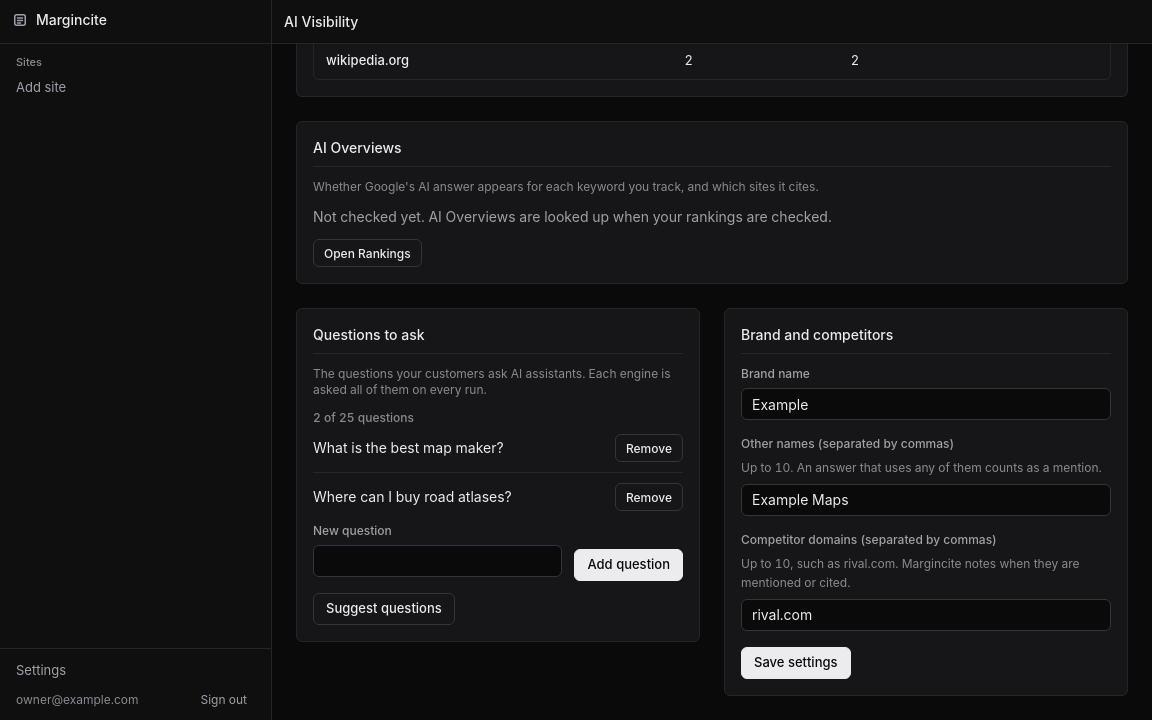
settings are loaded, saved as lists and a refusal is shown
(page scrolled)
Expected: the field labelled "Brand name" holds "Example", [741,388,1111,420]
Expected: the field labelled "Competitor domains (separated by commas)" holds "rival.com", [741,598,1111,630]
Replace the text in the field labelled "Other names (separated by commas)" with "Ex Maps, , Example Atlas " at (926,500), box [741,484,1111,516]
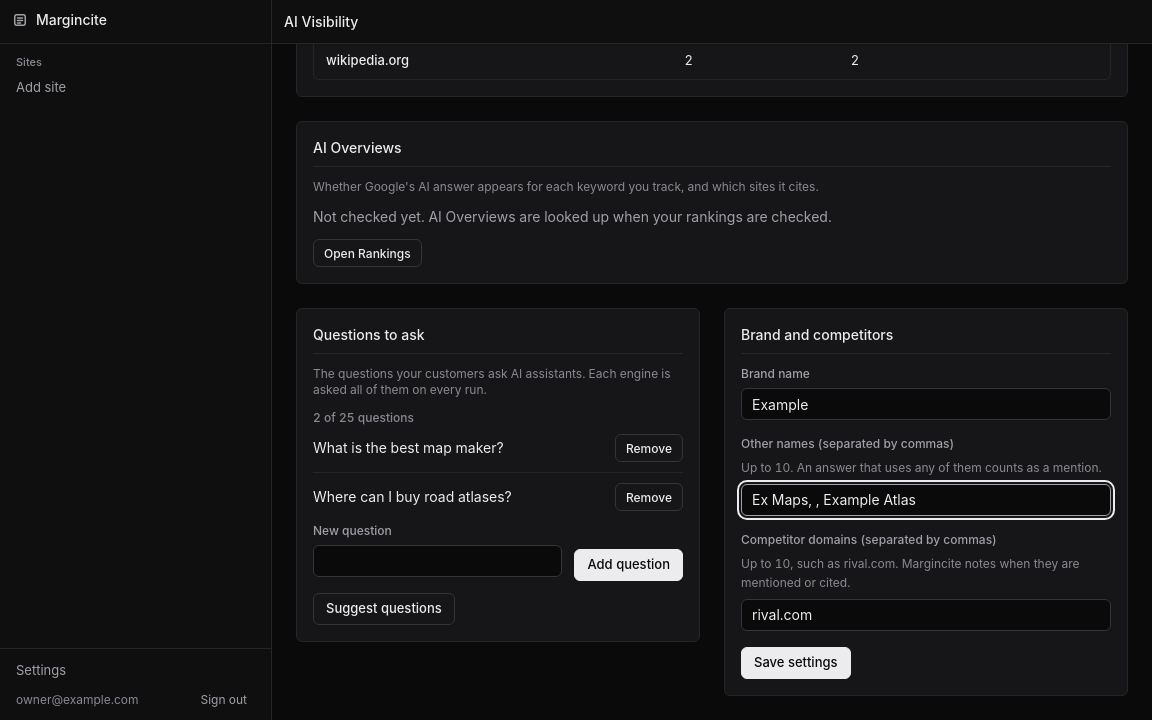
Replace the text in the field labelled "Competitor domains (separated by commas)" with "rival.com, other.org" at (926,614), box [741,598,1111,630]
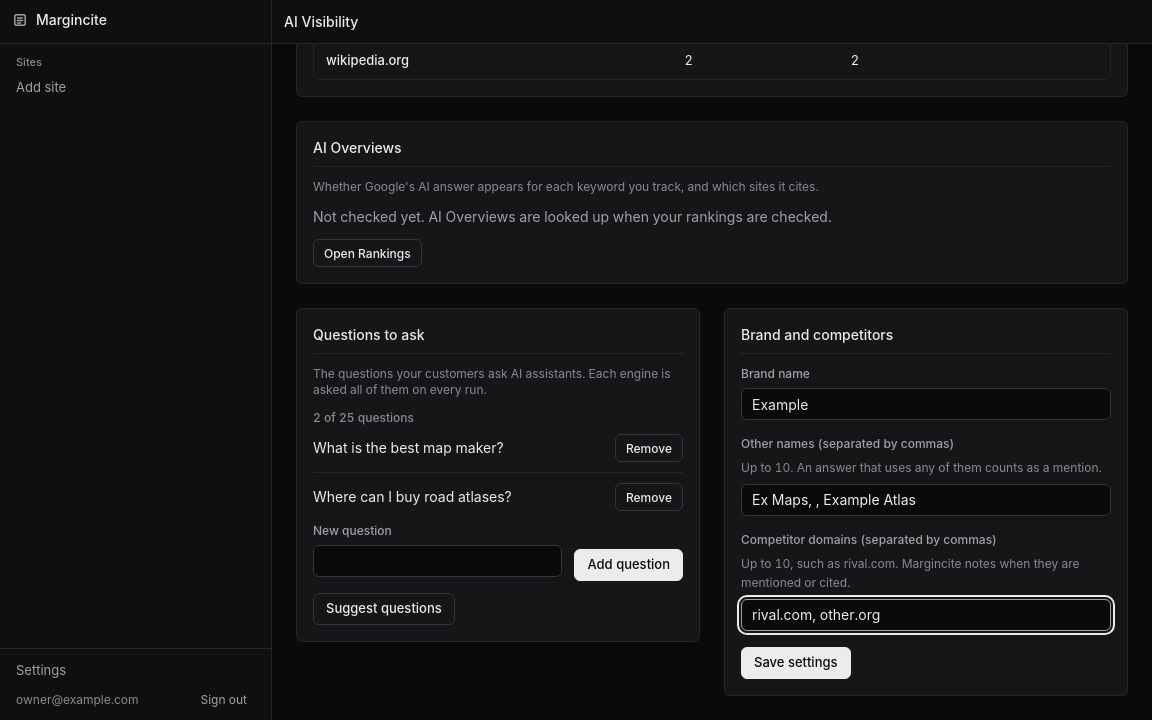
Click the button "Save settings".
click(796, 662)  # box [741,646,850,678]
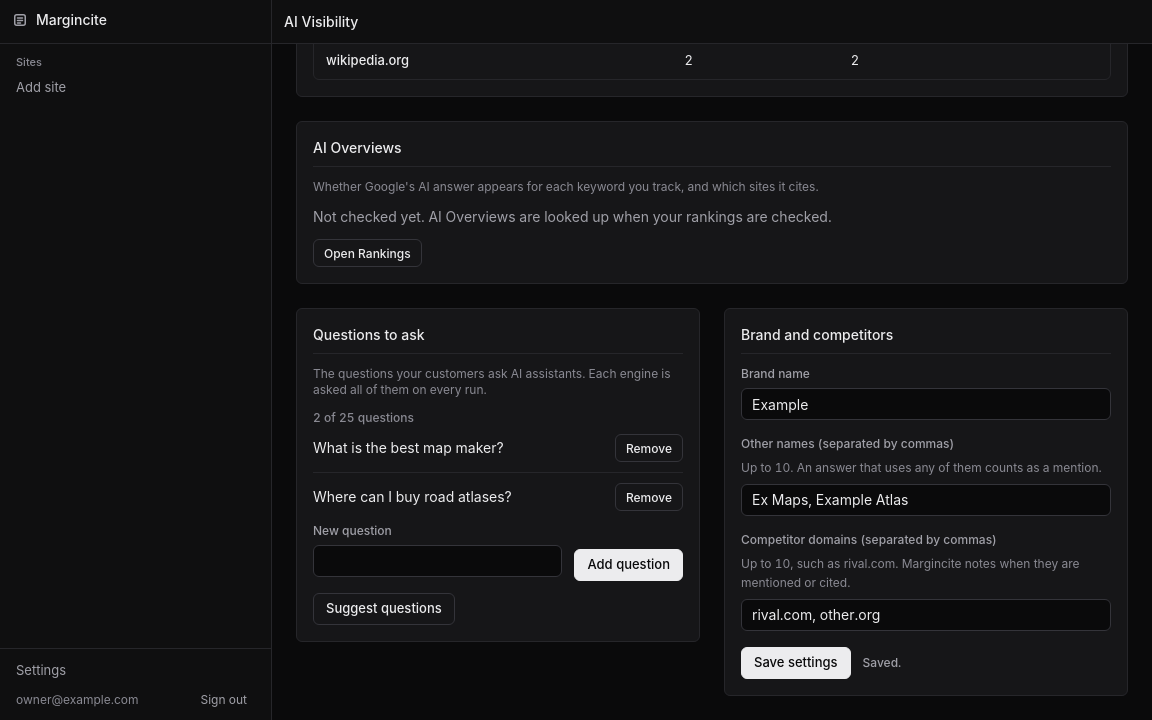
Now the text "Saved." is shown, box [862,654,901,670]
Click the button "Save settings".
click(796, 662)  # box [741,646,850,678]
(page scrolled)
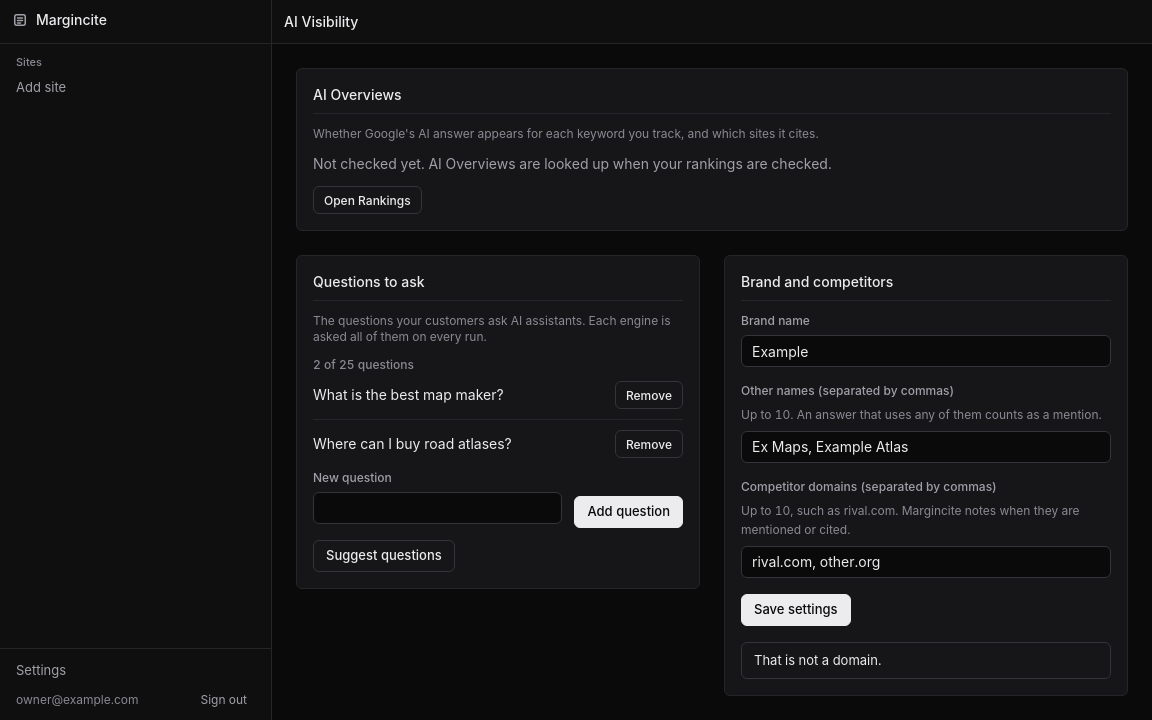
Now the text "That is not a domain." is shown, box [741,642,1111,679]
